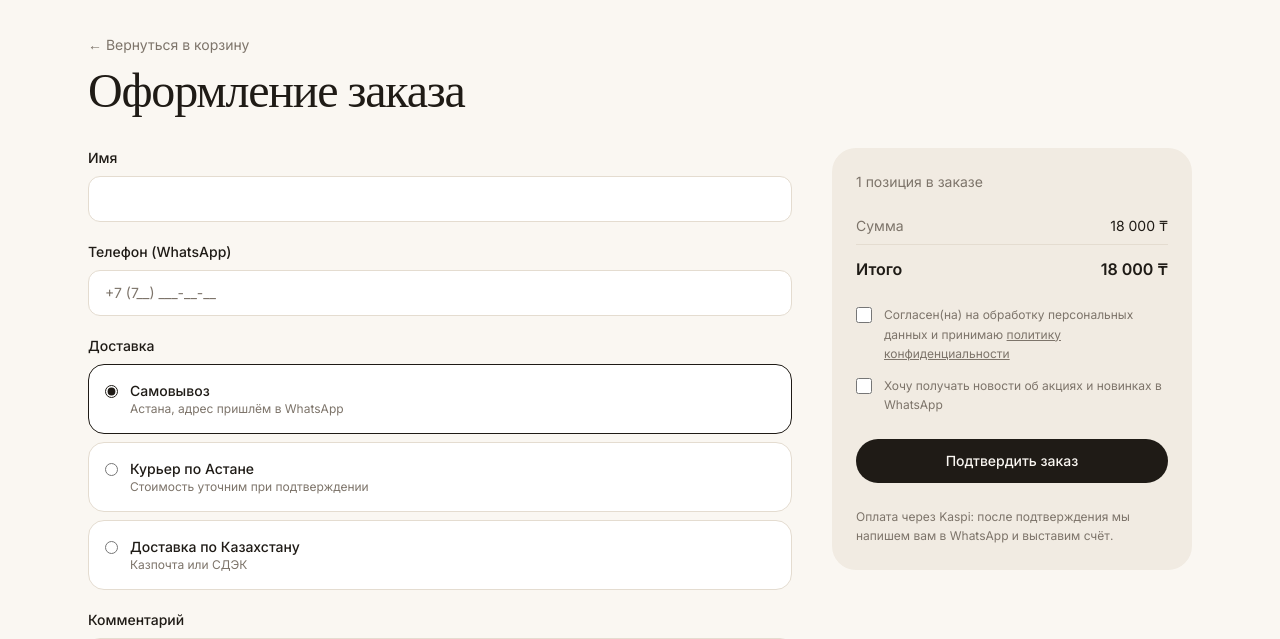
CheckoutPage consent › does not send the order without the privacy consent
The width and height of the screenshot is (1280, 639).
Type "Айгерим" into the field labelled "Имя".
click(440, 199); type("Айгерим")  # box [88,176,792,222]
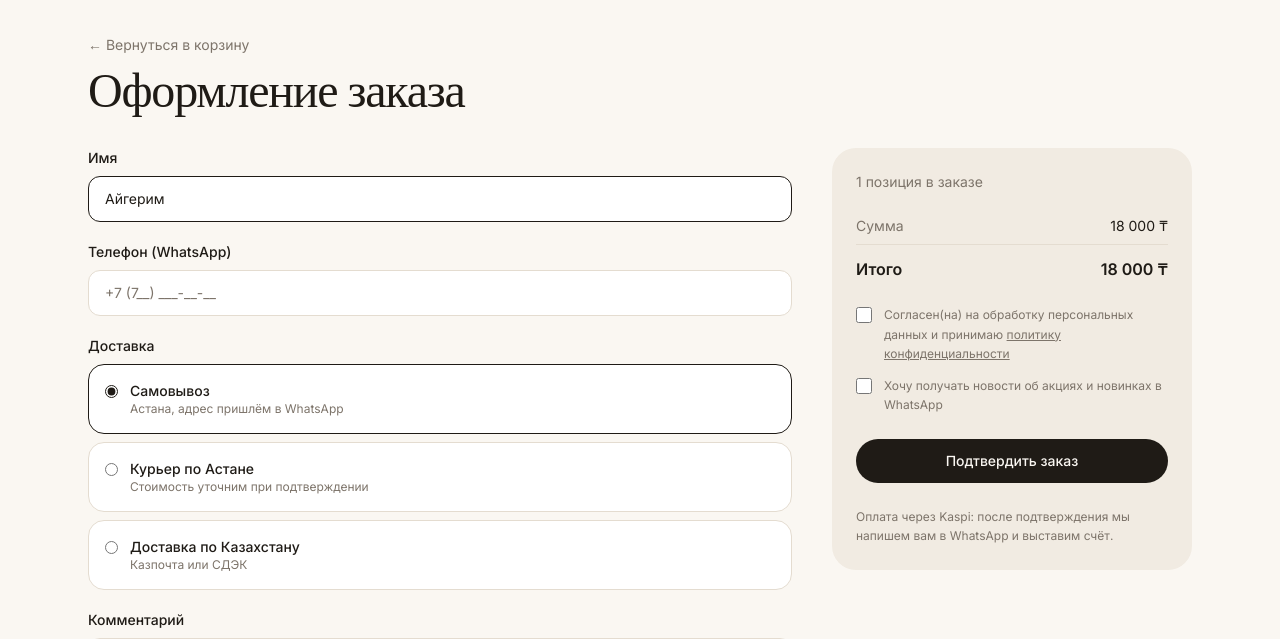
Type "87011234567" into the field labelled "Телефон (WhatsApp)".
click(440, 293); type("87011234567")  # box [88,270,792,316]
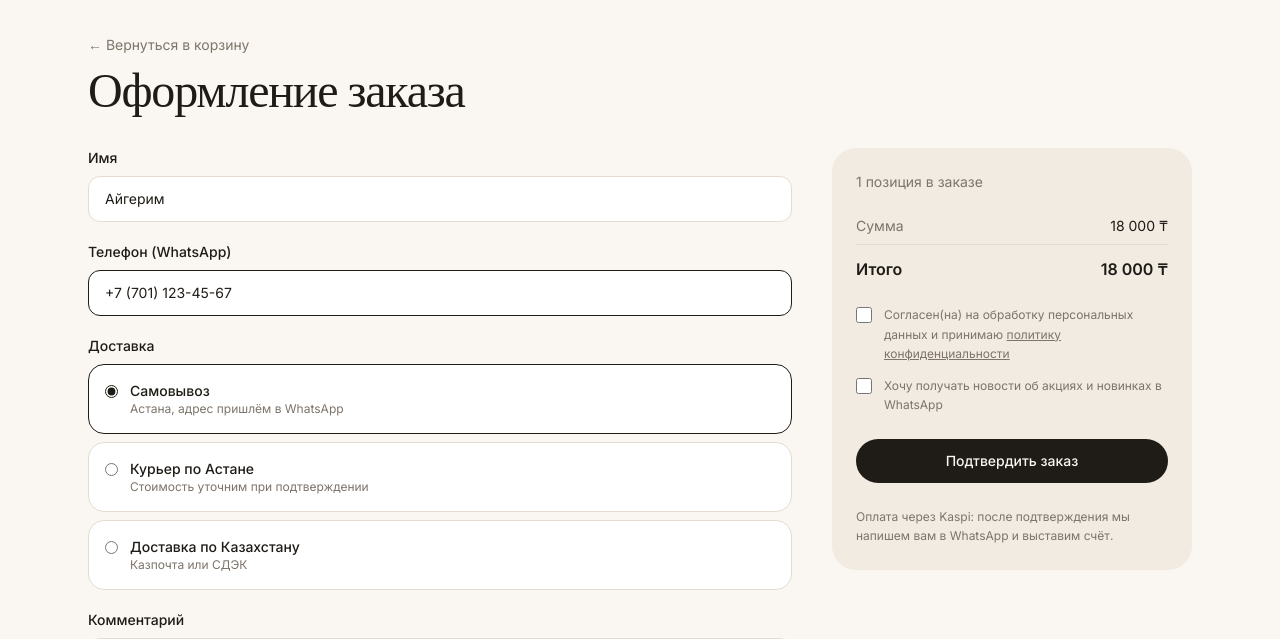
Click the button "Подтвердить заказ".
click(1012, 460)  # box [856,438,1168,482]
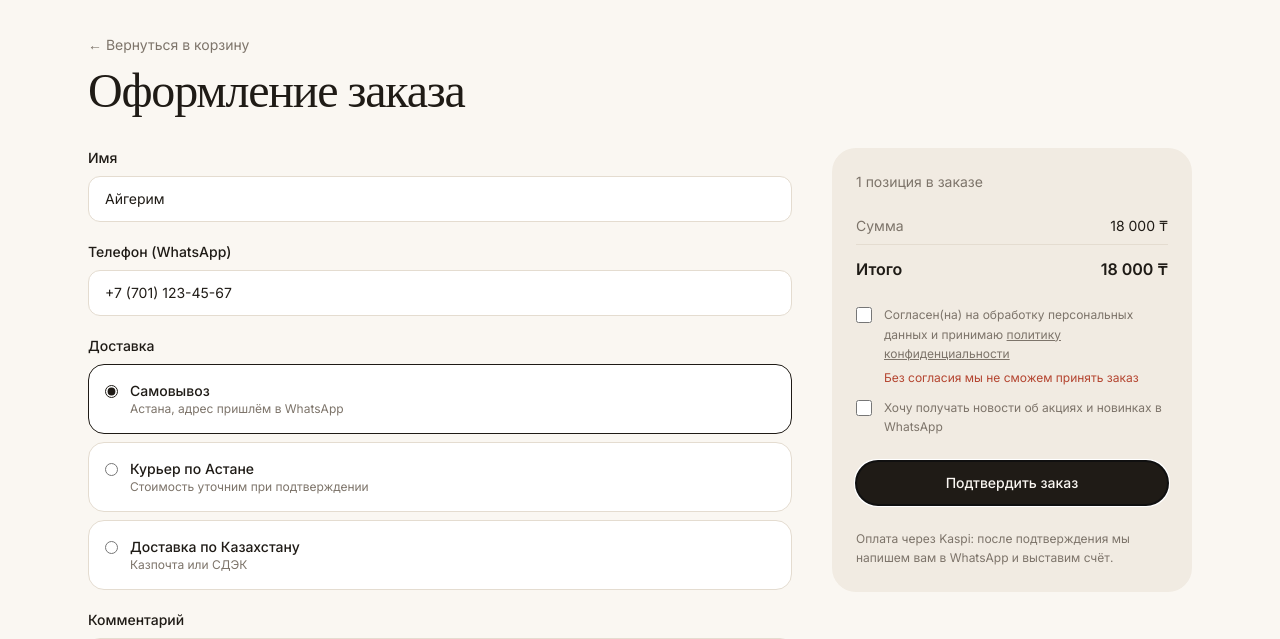
Result: the text "Без согласия мы не сможем принять заказ" is shown at [884,370,1139,384]
